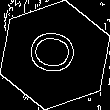O_E: (25, 29, 85, 81)
